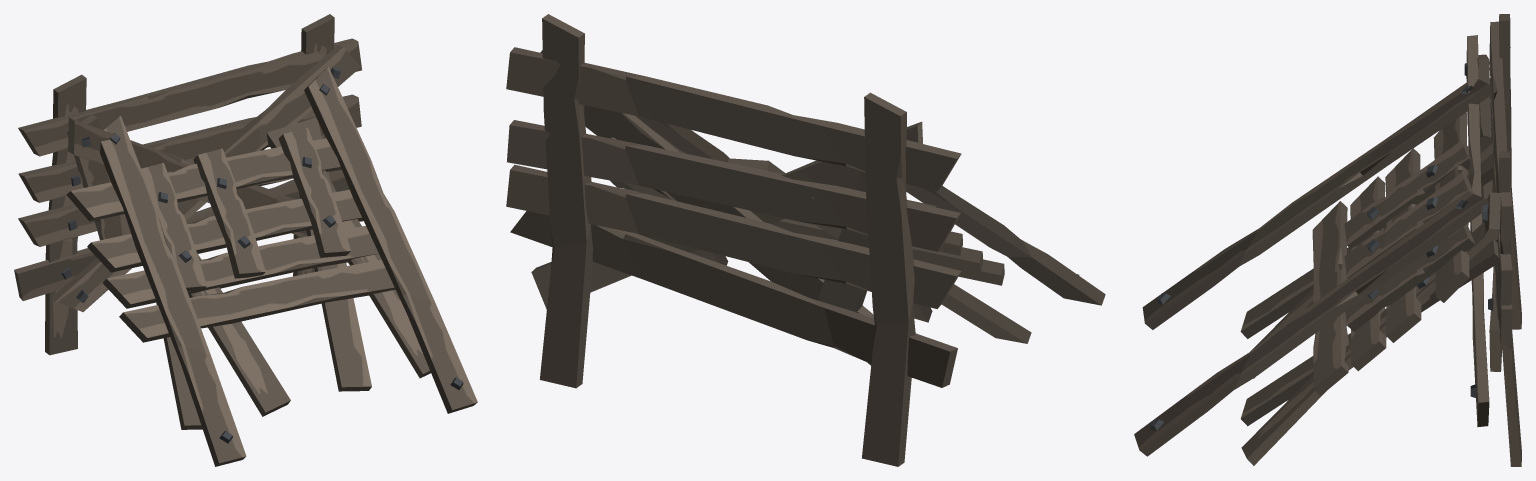
Rendered from engel.fbx.
3 renders of one model, left to right at view 1: azimuth 30°, elevation 25°; view 2: azimuth 150°, elevation 25°; view 3: azimuth 270°, elevation 25°, orthographic. The views are drawn at different scales.
Parts seen in each view (by area): view 1: engel, SM_Prop_Quarry_Planks_007, SM_Prop_Quarry_Planks_006, SM_Prop_Quarry_Planks_01, SM_Prop_Quarry_Planks_03, SM_Prop_Quarry_Planks_02, SM_Prop_Quarry_Planks_005, SM_Prop_Quarry_Planks_004; view 2: engel, SM_Prop_Quarry_Planks_01, SM_Prop_Quarry_Planks_004; view 3: engel, SM_Prop_Quarry_Planks_02, SM_Prop_Quarry_Planks_005, SM_Prop_Quarry_Planks_007, SM_Prop_Quarry_Planks_006, SM_Prop_Quarry_Planks_004, SM_Prop_Quarry_Planks_01, SM_Prop_Quarry_Planks_03.
Boxes of the visible parts, <box> form: engel: <box>14,38,477,466</box>; SM_Prop_Quarry_Planks_007: <box>278,127,350,257</box>; SM_Prop_Quarry_Planks_006: <box>193,148,265,278</box>; SM_Prop_Quarry_Planks_01: <box>45,74,86,355</box>; SM_Prop_Quarry_Planks_03: <box>188,253,290,416</box>; SM_Prop_Quarry_Planks_02: <box>141,163,206,291</box>; SM_Prop_Quarry_Planks_005: <box>266,125,430,378</box>; SM_Prop_Quarry_Planks_004: <box>293,14,334,276</box>; engel: <box>506,47,1105,387</box>; SM_Prop_Quarry_Planks_01: <box>861,92,915,466</box>; SM_Prop_Quarry_Planks_004: <box>539,14,592,388</box>; engel: <box>1134,21,1512,456</box>; SM_Prop_Quarry_Planks_02: <box>1344,140,1469,249</box>; SM_Prop_Quarry_Planks_005: <box>1241,222,1497,465</box>; SM_Prop_Quarry_Planks_007: <box>1345,224,1475,331</box>; SM_Prop_Quarry_Planks_006: <box>1344,173,1473,278</box>; SM_Prop_Quarry_Planks_004: <box>1499,151,1521,466</box>; SM_Prop_Quarry_Planks_01: <box>1499,14,1521,329</box>; SM_Prop_Quarry_Planks_03: <box>1250,135,1492,378</box>.
Size of the model in its own units: 395 by 300 by 339.
1 material, 1 textured.
